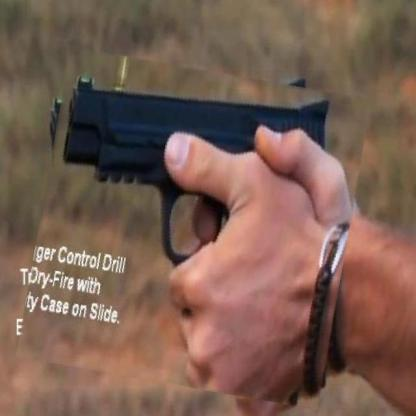handgun: (28, 58, 360, 398)
